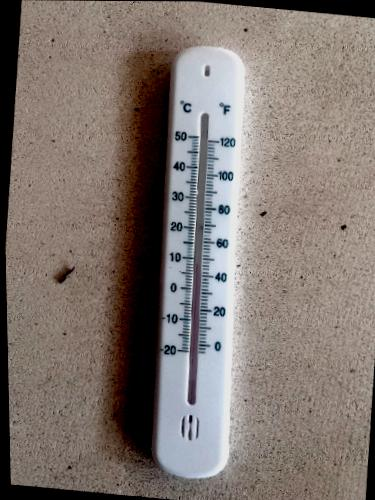thermo: (146, 44, 258, 482)
